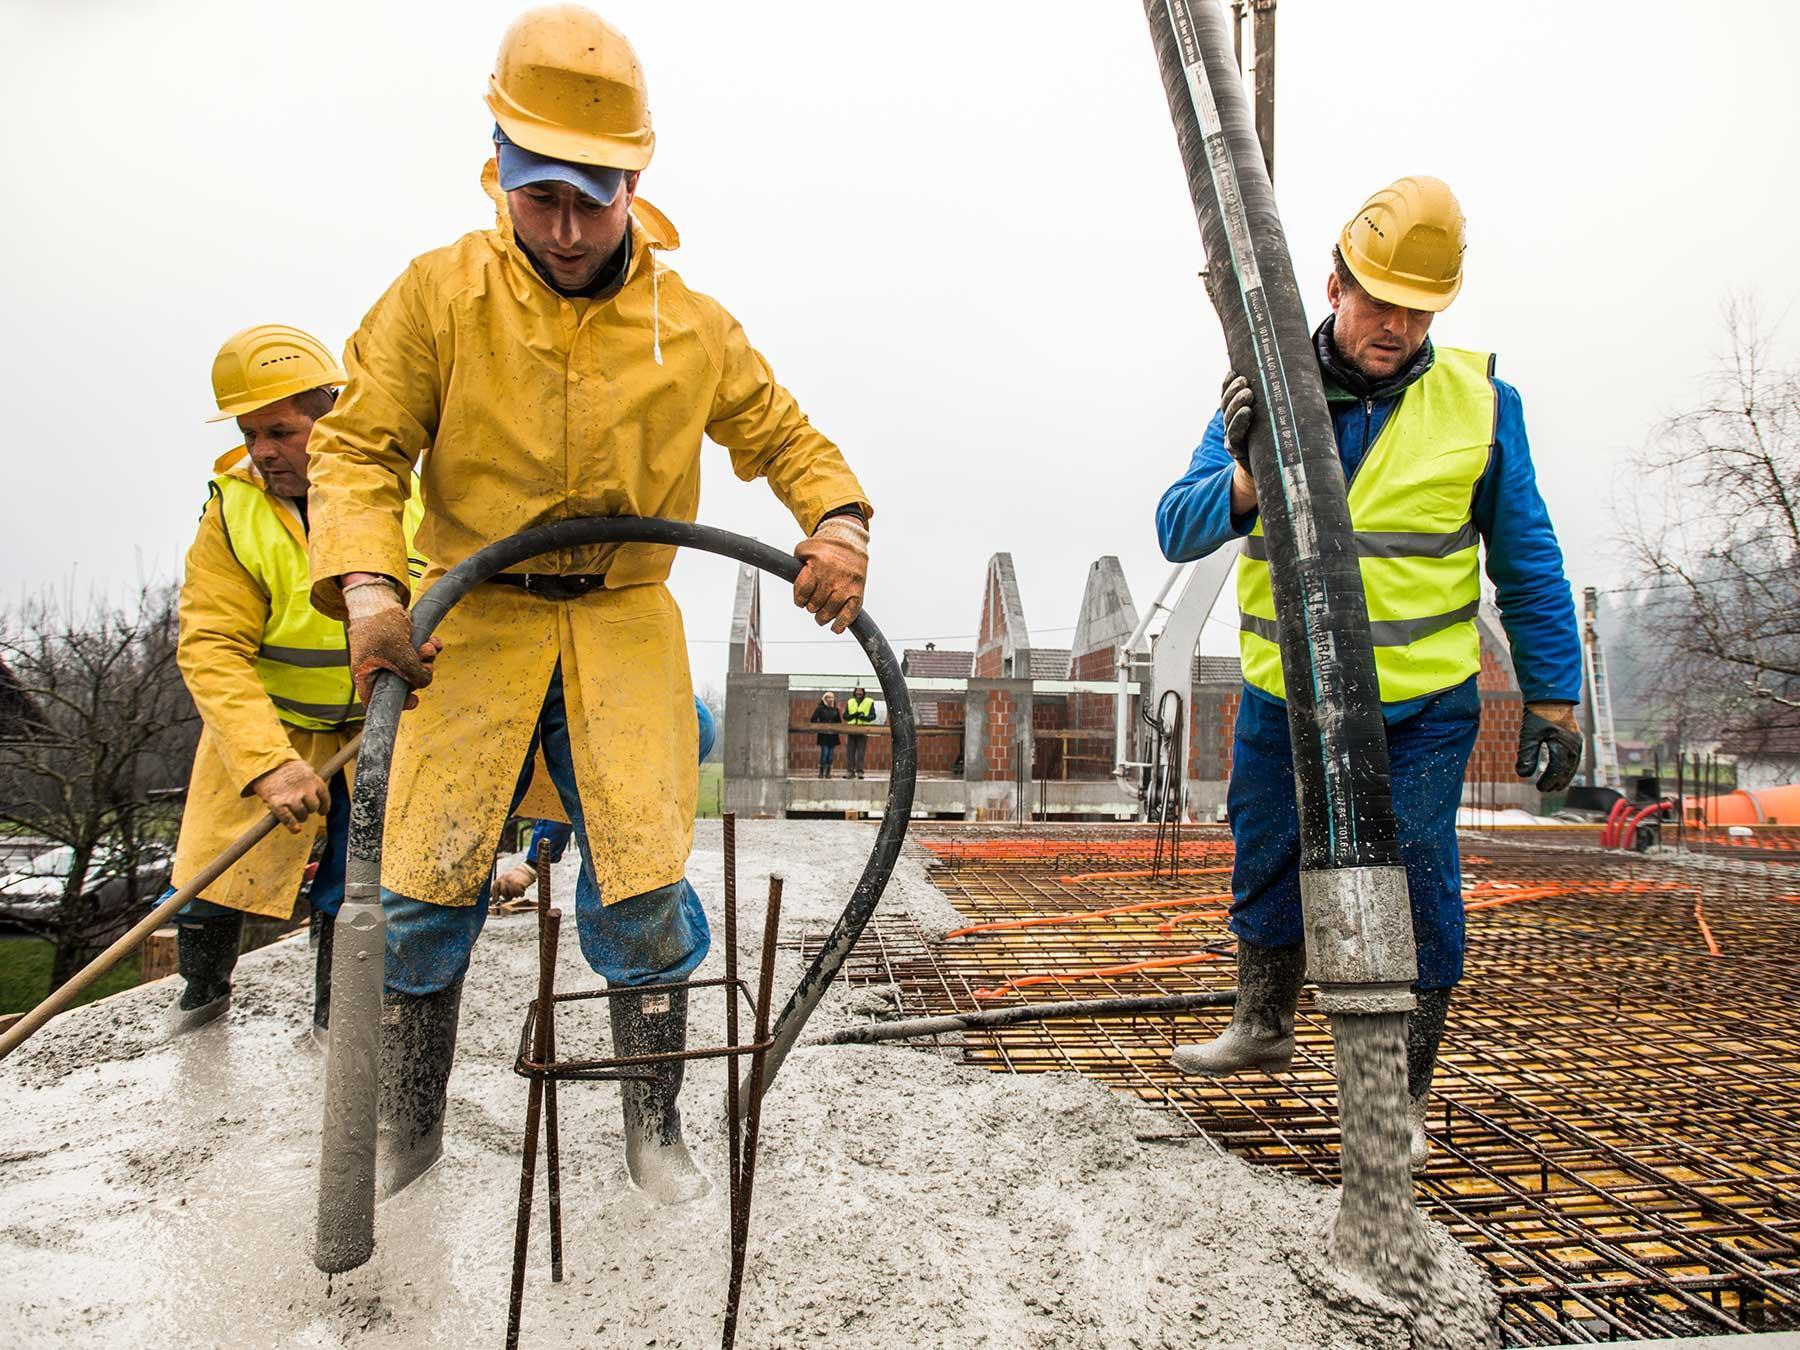helmet: (448, 20, 722, 199), (1322, 173, 1519, 333), (198, 327, 365, 443)
no-vest: (348, 227, 815, 690)
person: (292, 10, 906, 1170), (1178, 150, 1615, 1113), (168, 313, 431, 1013)
vest: (1215, 350, 1576, 763), (195, 473, 418, 783)
